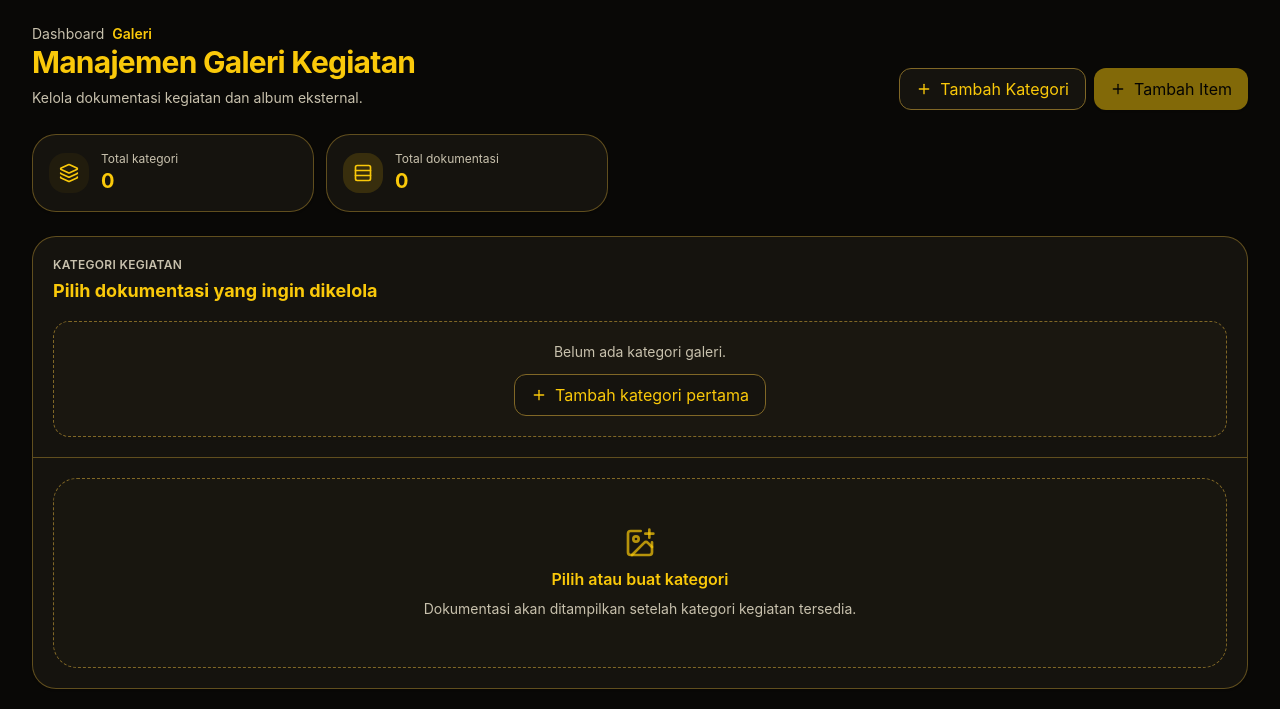
Test: GalleryManager master-detail workflow › creates categories in a dialog using human-readable period and division selectors
The width and height of the screenshot is (1280, 709).
Click the button "Tambah Kategori". click: (993, 89)
box: [899,68,1086,110]
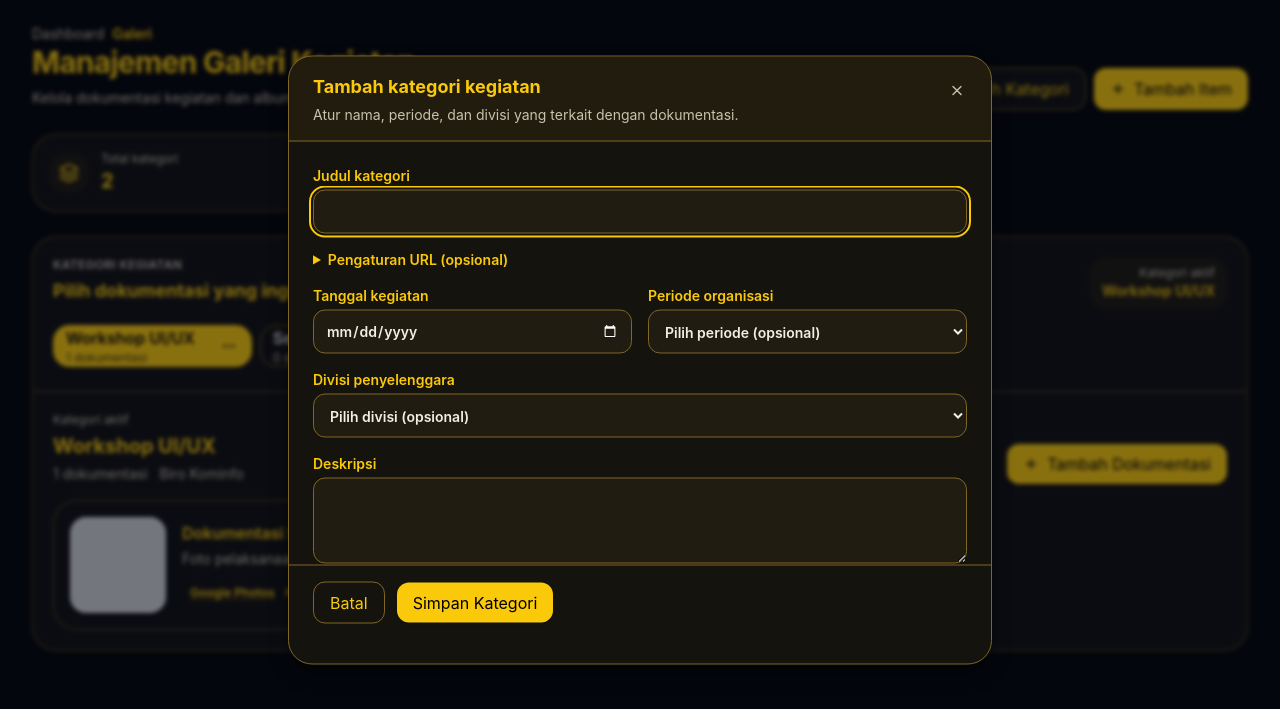
Type "Workshop Desain" into the field labelled "Judul kategori". click: (640, 212)
box: [313,190,967,234]
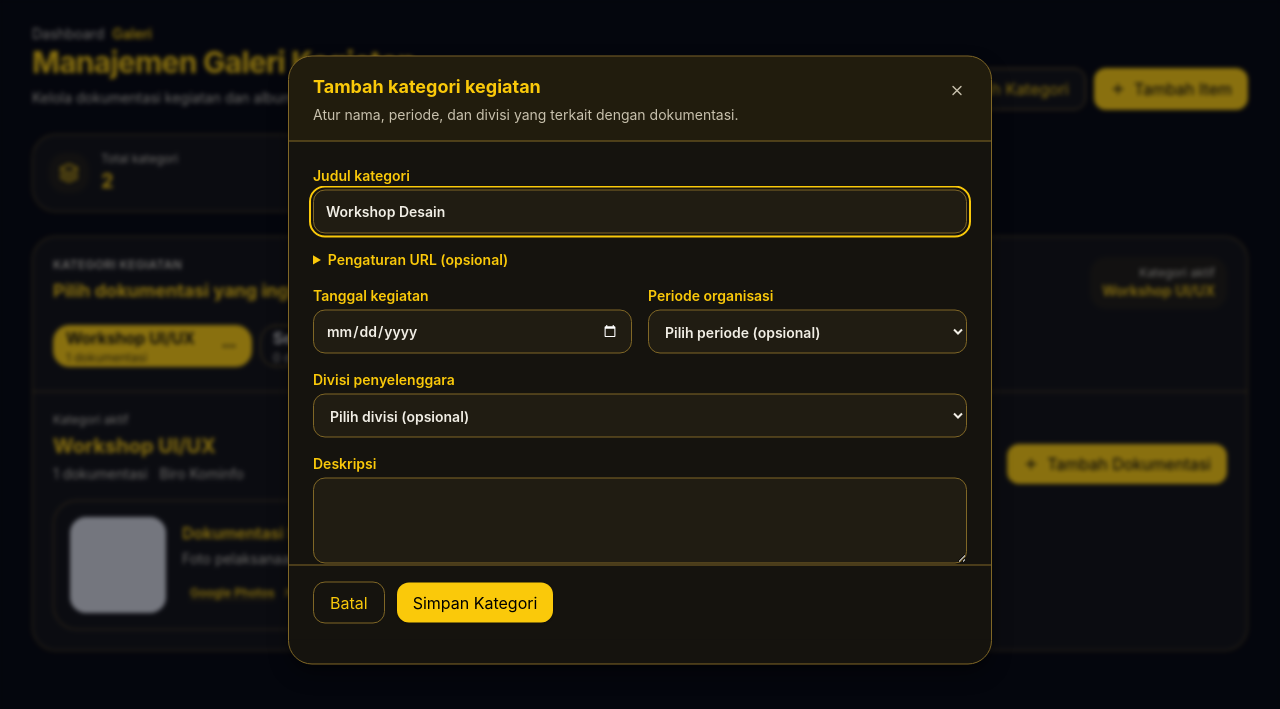
Select "Periode 2024/2025 · Aktif" in the dropdown labelled "Periode organisasi". click: (808, 332)
box: [648,310,967,354]
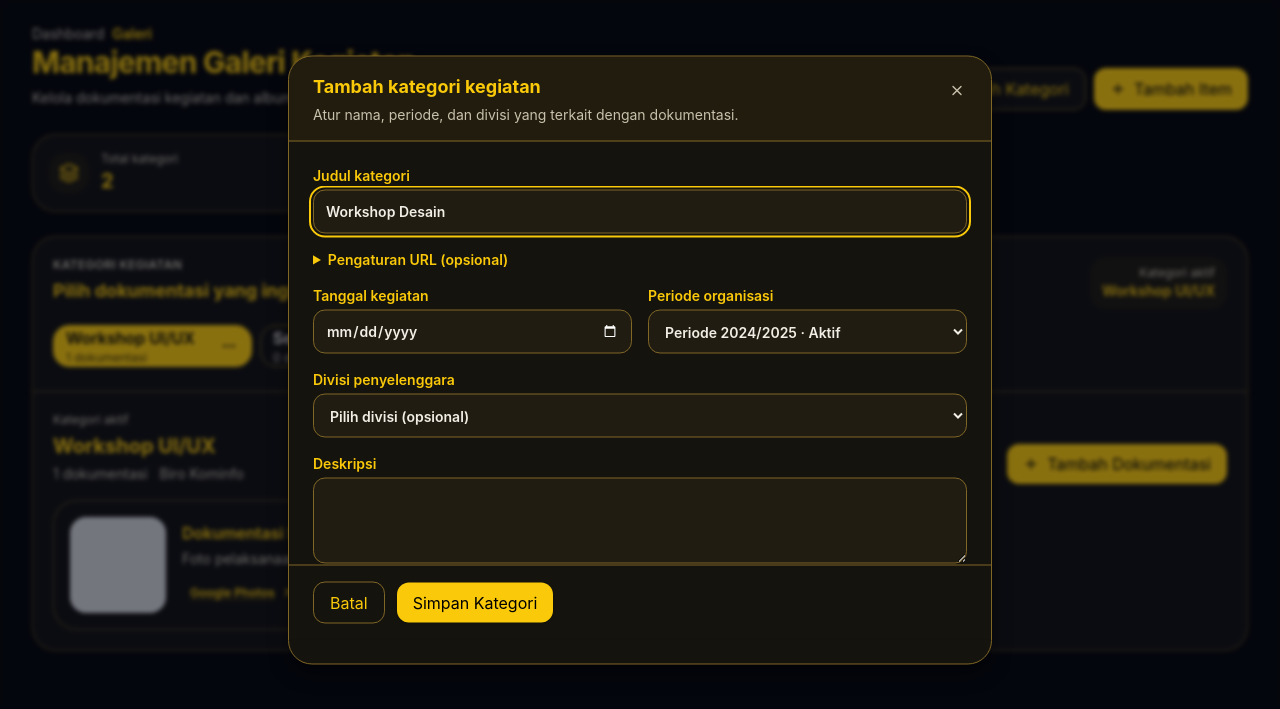
Select "Biro Kominfo · Periode 2024/2025" in the dropdown labelled "Divisi penyelenggara". click: (640, 416)
box: [313,394,967,438]
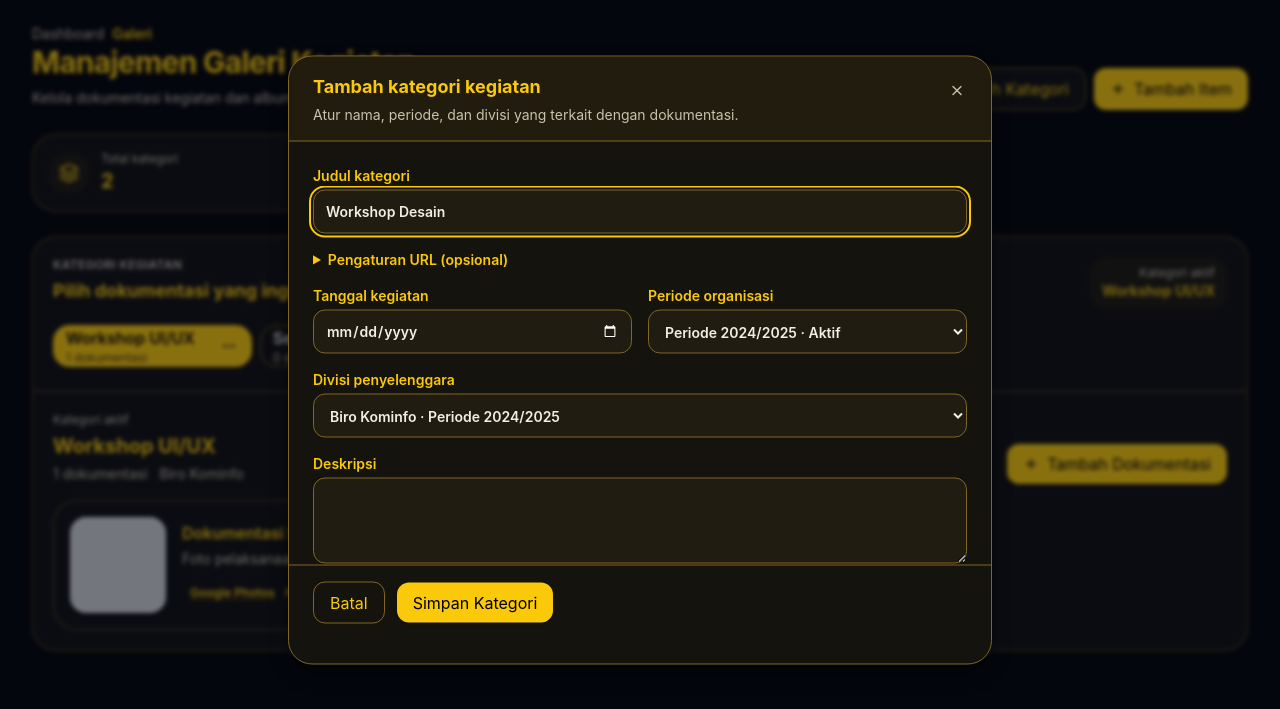
Click the button "Simpan Kategori". click: (475, 602)
box: [397,582,553,622]
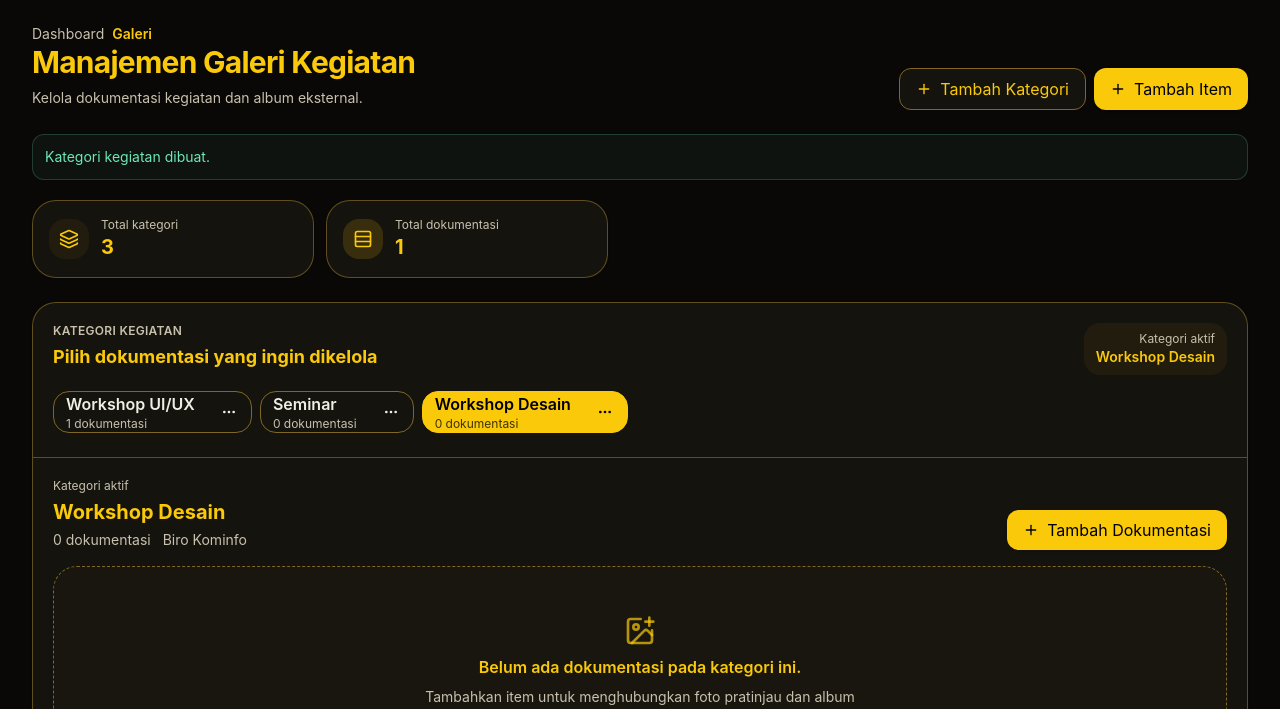
Result: the button "Workshop Desain 0 dokumentasi" is shown at [423,392,583,432]
Result: the heading "Tambah kategori kegiatan" is gone
